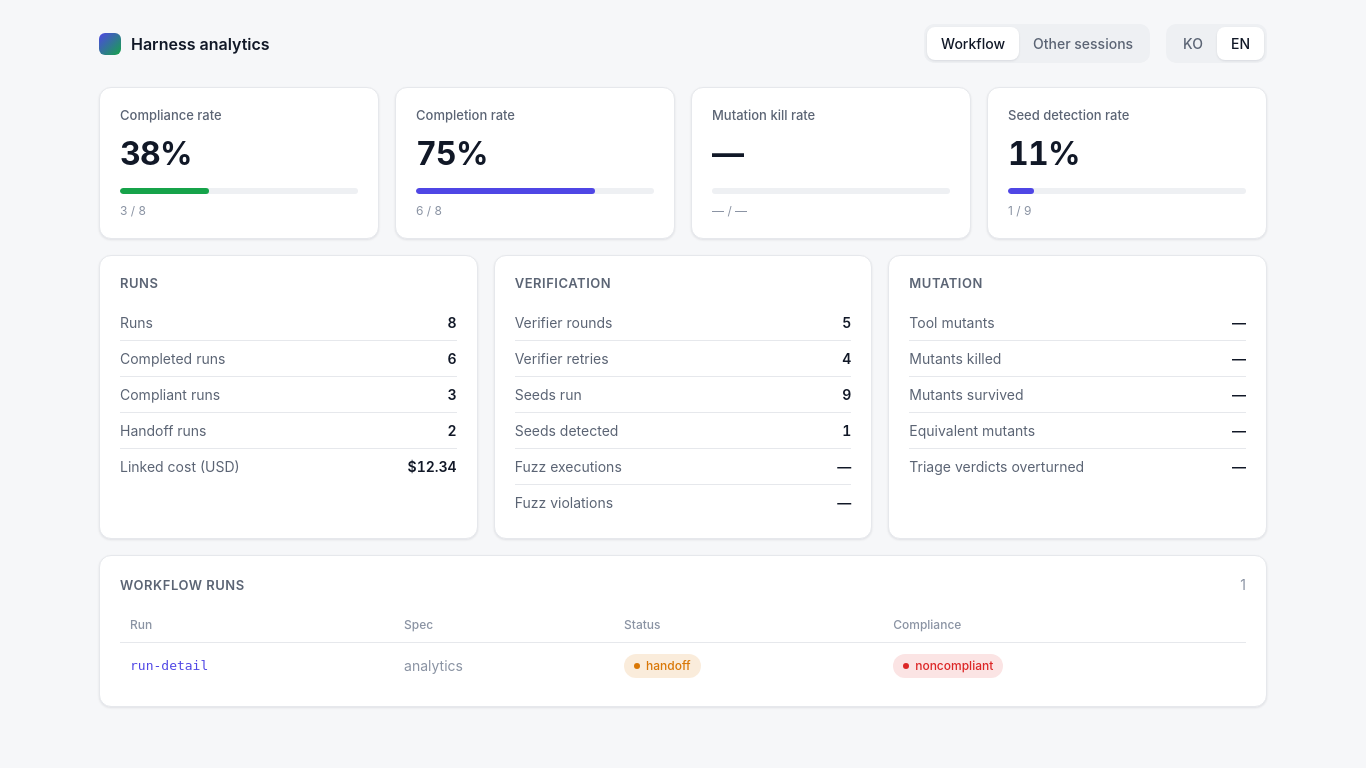
Test: spec v2 U2/F7/Q3 summary and detail field coverage › detail view renders unknown cost for a null run linked_cost_usd
This screenshot has width=1366, height=768.
Click the link "run-detail".
click(169, 666)  # box [130,658,208,673]
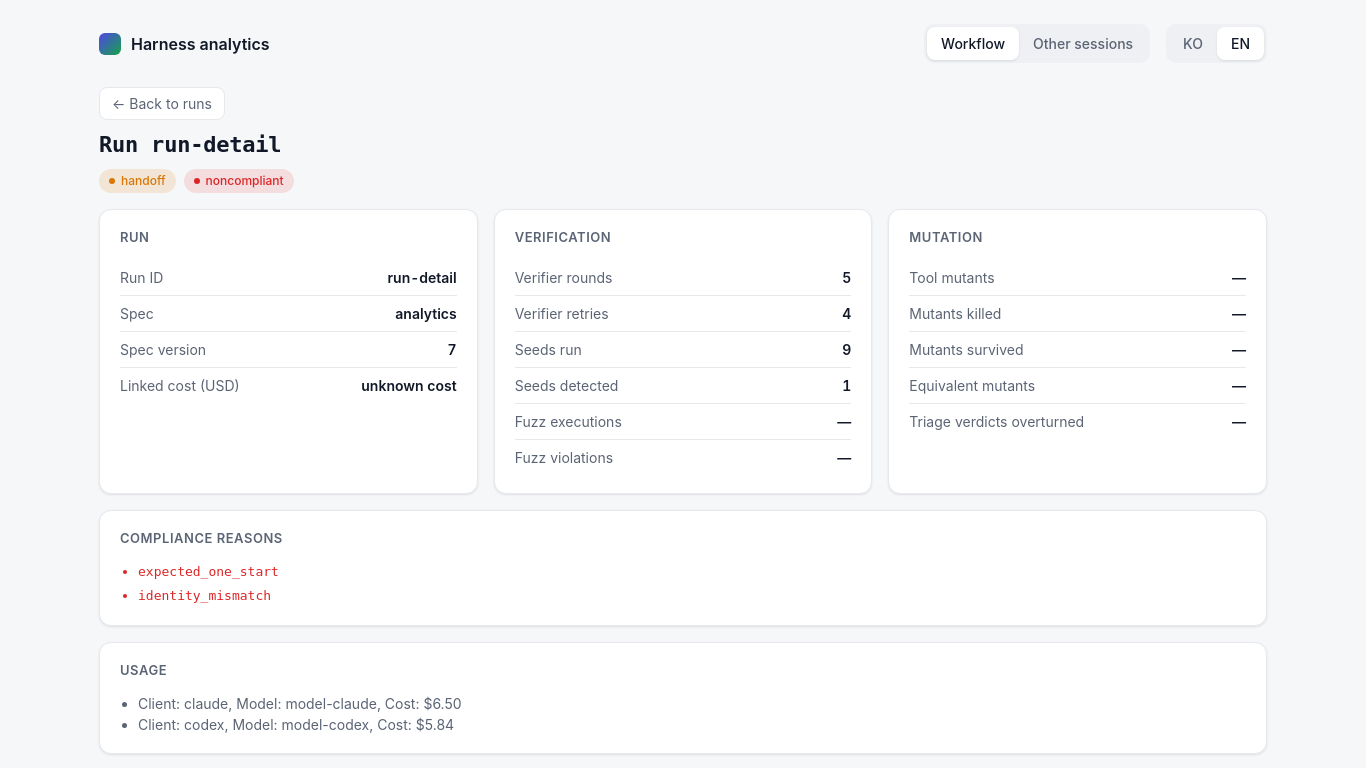
Expected: the text "Linked cost (USD)" is shown, [120,374,240,396]
Result: the text "unknown cost" is shown at [361,374,457,396]
